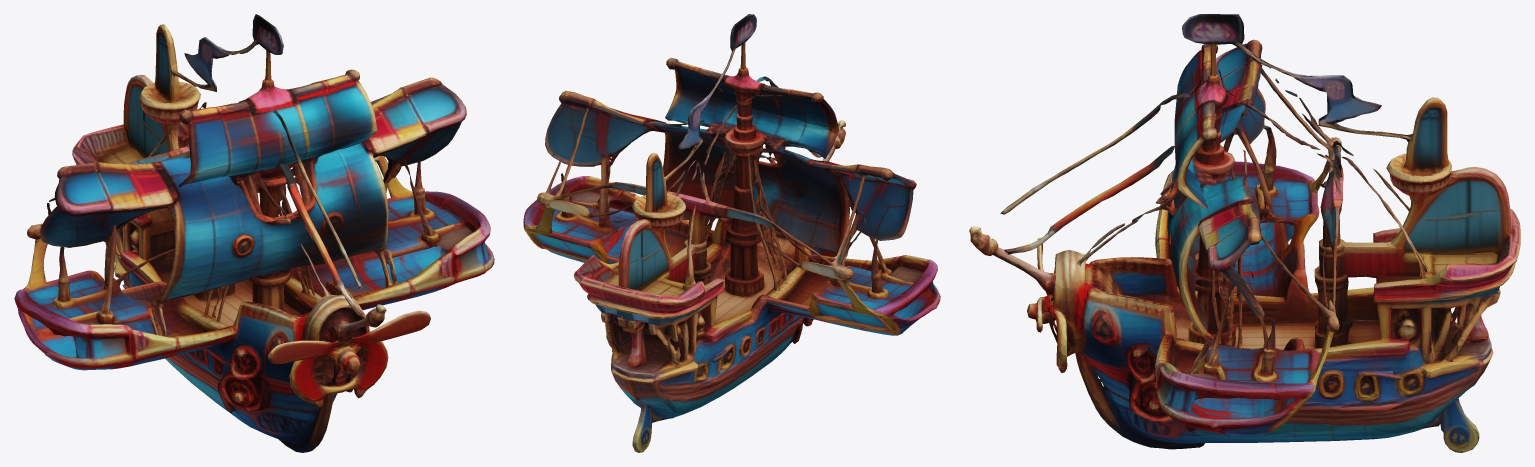
The picture shows the model from 3 angles, left to right: view 1: azimuth 30°, elevation 25°; view 2: azimuth 150°, elevation 25°; view 3: azimuth 270°, elevation 25°; orthographic projection. The views are drawn at different scales.
Visible parts, largest first — view 1: world; view 2: world; view 3: world.
Boxes of the visible parts, bbox=[...] form: world: bbox=[14, 14, 494, 452]; world: bbox=[523, 14, 940, 452]; world: bbox=[969, 14, 1520, 452].
Bounding box in the file's own units: 0.9769 × 0.8674 × 0.9906.
1 material, 1 textured.
